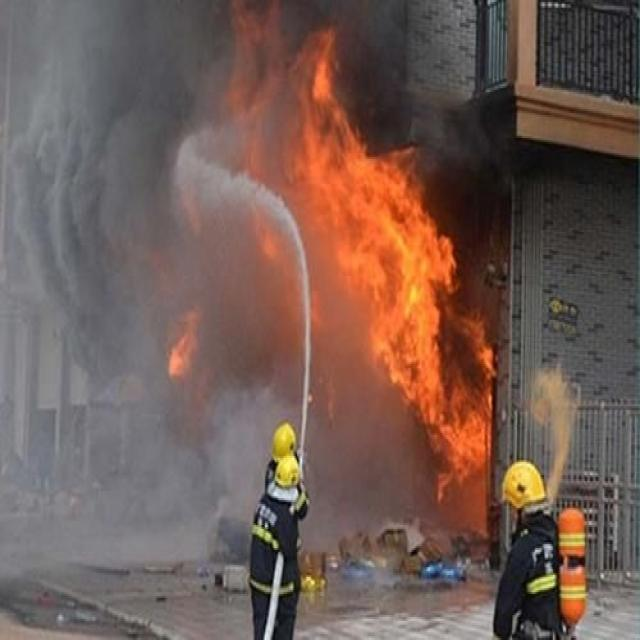Fire: (228, 4, 498, 506), (166, 310, 200, 380)
Smoke: (2, 2, 510, 575)
